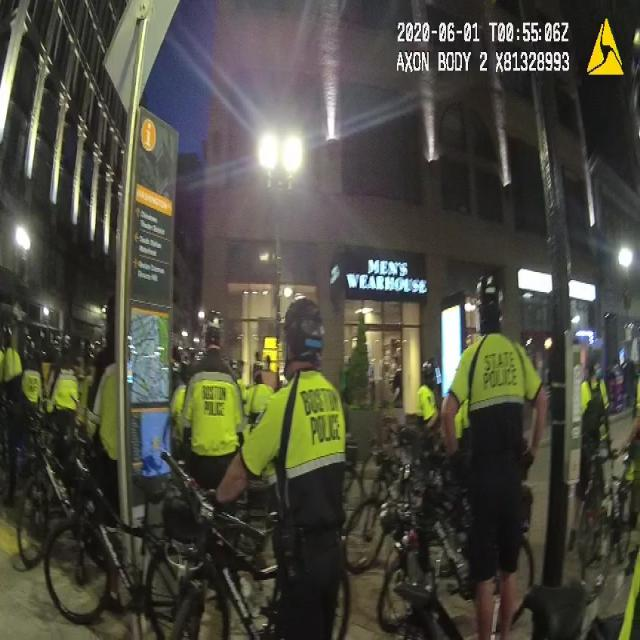cop: (443, 263, 547, 638), (252, 304, 350, 638), (180, 325, 240, 484), (574, 346, 614, 552), (0, 319, 25, 507)
